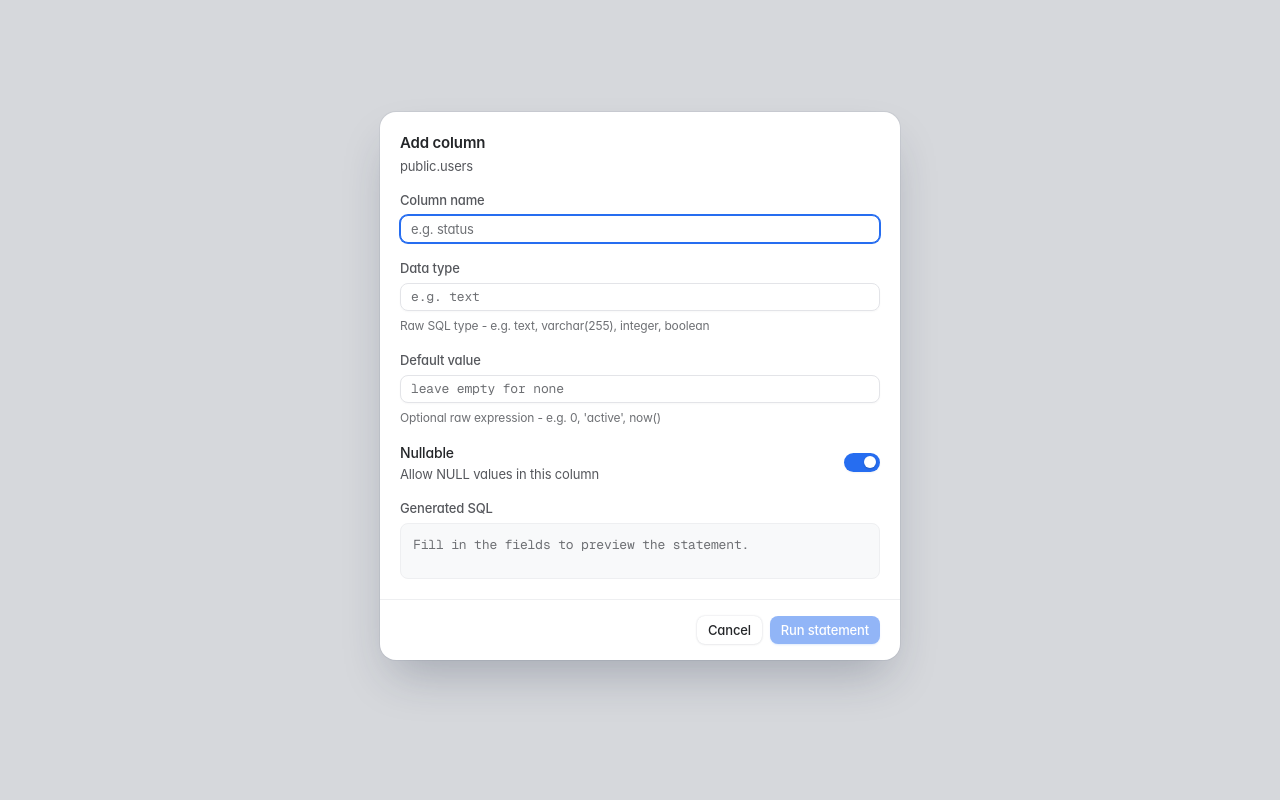
adding a column that cannot exist › says why, and refuses to run it
The width and height of the screenshot is (1280, 800).
In the field labelled "Column name": (640, 228) [400, 214, 880, 242], type "email"
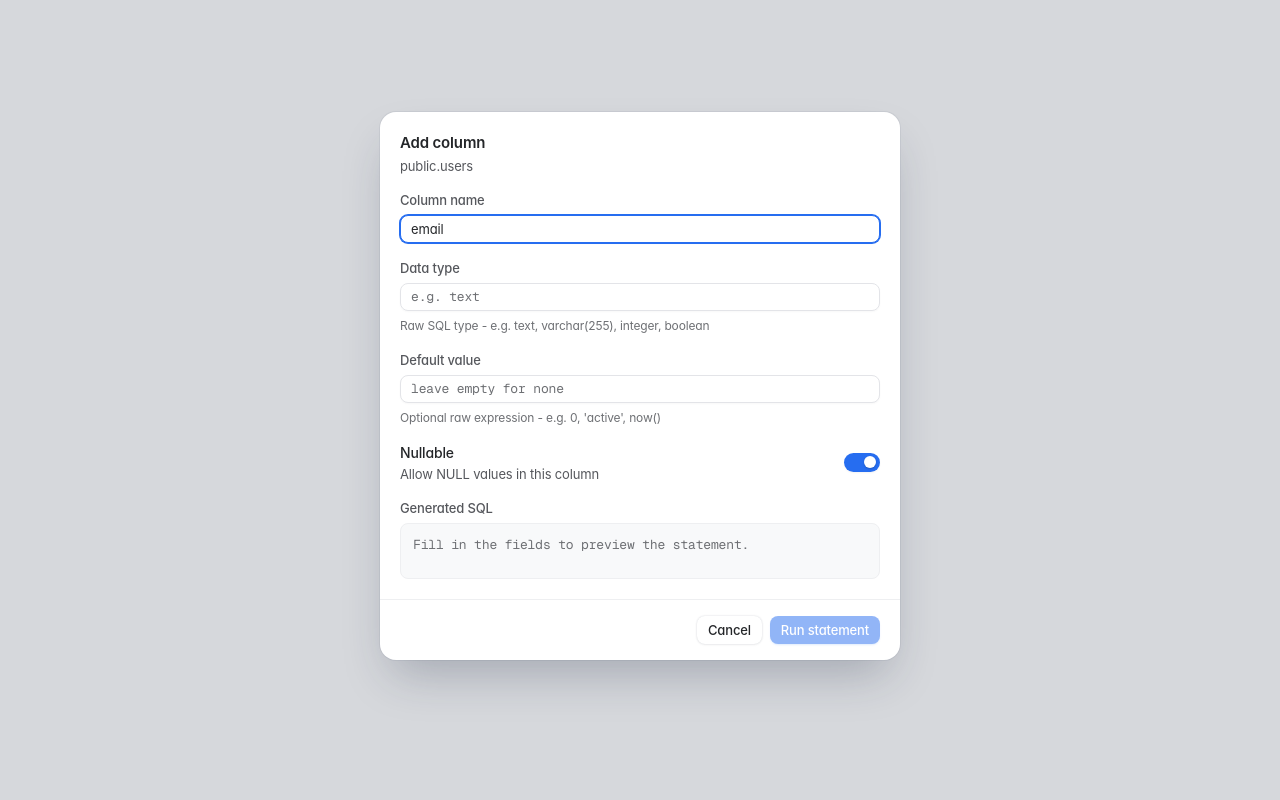
In the field labelled "Data type": (640, 296) [400, 282, 880, 310], type "text"
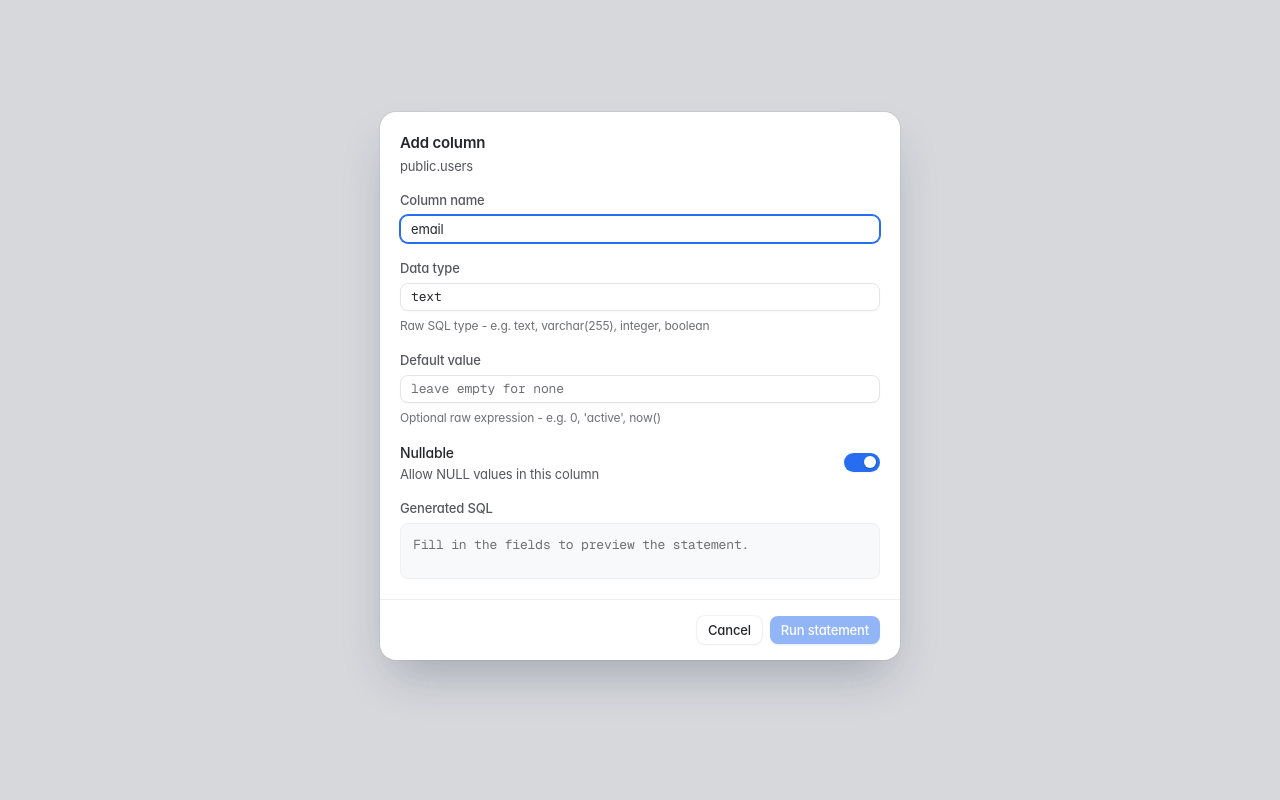
Click the switch: click(862, 462) [844, 453, 880, 472]
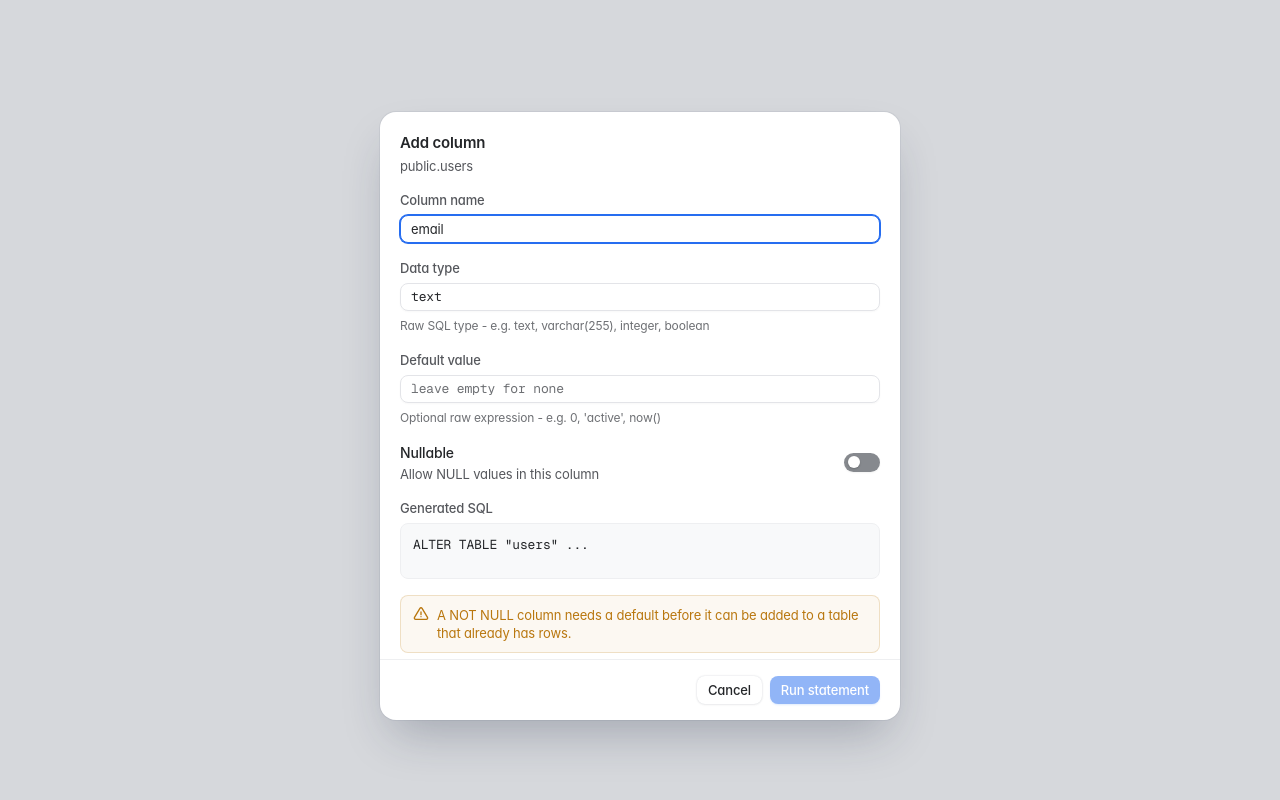
Expected: the button "Run statement" is disabled, [770, 676, 880, 704]
Now the text "needs a default" is shown, box [437, 606, 858, 640]
